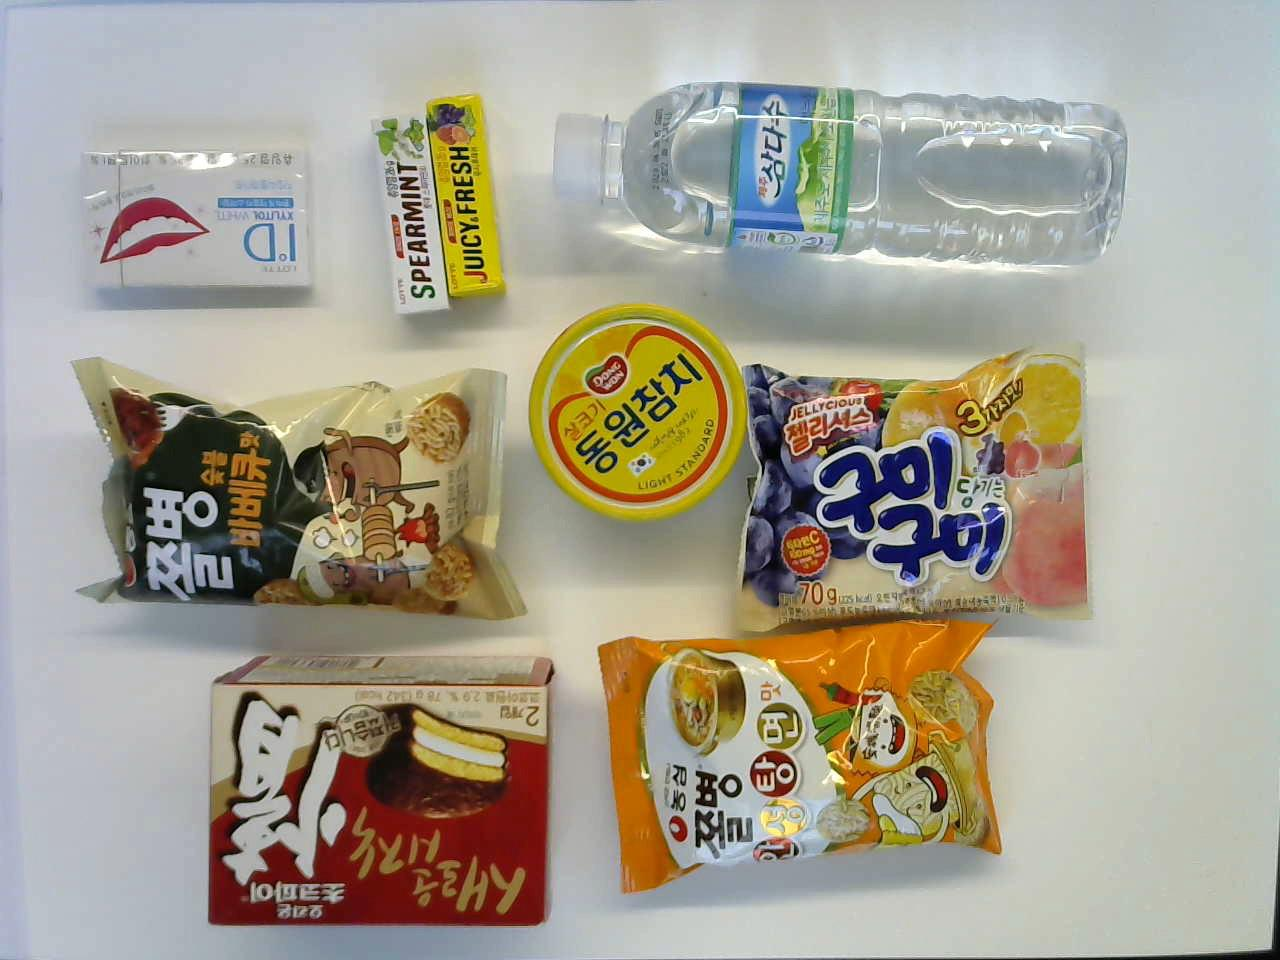ID_gum: (75, 140, 317, 294)
chocopie: (196, 648, 564, 931)
gumi_gumi: (738, 339, 1094, 627)
jjolbyung_noodle: (596, 617, 1002, 901)
jjolbyung_ori: (63, 352, 531, 626)
juicyfresh: (424, 94, 502, 303)
samdasu: (547, 81, 1132, 275)
spearmint: (366, 109, 452, 321)
tuna: (524, 303, 751, 528)
